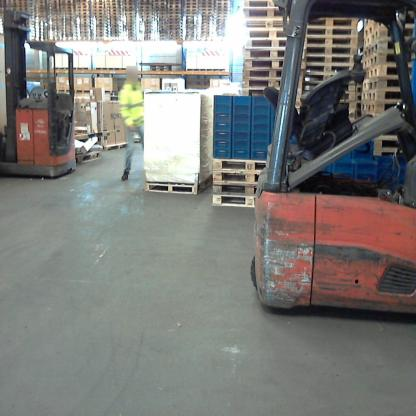forklift: (249, 0, 416, 322), (0, 8, 77, 181)
pallet: (145, 176, 213, 194), (212, 158, 267, 174), (212, 169, 262, 184), (243, 6, 292, 21), (369, 52, 413, 68), (305, 24, 359, 37), (369, 39, 414, 54), (212, 182, 259, 196), (301, 54, 355, 66), (368, 100, 411, 115), (303, 46, 358, 57), (212, 194, 255, 208), (303, 62, 353, 74), (245, 17, 291, 30), (369, 88, 411, 102), (371, 134, 405, 151), (305, 17, 360, 27), (245, 37, 287, 50), (241, 68, 283, 81), (245, 47, 286, 60), (370, 78, 409, 91), (372, 29, 414, 41), (243, 57, 285, 69), (305, 36, 359, 45), (370, 66, 410, 78), (246, 28, 289, 39), (244, 0, 291, 10), (376, 19, 415, 30), (240, 78, 282, 88), (75, 150, 102, 165), (299, 73, 334, 83), (102, 141, 129, 151), (240, 88, 266, 97), (363, 17, 377, 30), (340, 101, 355, 112), (340, 91, 356, 101), (363, 25, 375, 38), (362, 36, 371, 50), (360, 90, 370, 102), (360, 102, 370, 112), (346, 82, 356, 92), (361, 79, 370, 90), (362, 58, 371, 69), (362, 70, 370, 81), (150, 64, 172, 68), (150, 68, 172, 72), (74, 89, 90, 94), (362, 48, 369, 59), (199, 68, 213, 73), (104, 89, 118, 94), (216, 5, 230, 10), (153, 2, 167, 7), (213, 68, 226, 73), (120, 66, 133, 71), (65, 66, 77, 71), (215, 2, 230, 6), (57, 89, 71, 93), (106, 67, 120, 71), (200, 5, 214, 9), (167, 8, 181, 12), (167, 2, 181, 6), (167, 12, 181, 16), (167, 15, 181, 19), (138, 5, 152, 9), (138, 0, 152, 4), (121, 6, 135, 10), (121, 2, 135, 6), (75, 5, 89, 9), (46, 9, 60, 13), (46, 6, 60, 10), (46, 3, 60, 7), (60, 9, 74, 13), (185, 2, 198, 6), (185, 5, 198, 9), (186, 68, 199, 72), (52, 66, 65, 70), (200, 12, 213, 16), (168, 21, 181, 25), (154, 9, 167, 13), (153, 6, 166, 10), (122, 9, 135, 13), (105, 12, 118, 16), (105, 9, 118, 13), (91, 3, 104, 7), (76, 12, 89, 16), (76, 9, 89, 13), (75, 0, 88, 4), (60, 0, 73, 4), (168, 24, 180, 28), (105, 3, 117, 7), (92, 12, 103, 16), (92, 9, 103, 13), (185, 9, 199, 12), (200, 2, 214, 5), (167, 5, 181, 8), (167, 0, 181, 3), (153, 0, 167, 3), (138, 9, 152, 12), (138, 3, 152, 6), (121, 0, 135, 3), (75, 3, 89, 6), (60, 6, 74, 9), (185, 12, 198, 15), (200, 9, 213, 12), (168, 18, 181, 21), (91, 0, 104, 3), (60, 3, 73, 6), (95, 67, 107, 70), (77, 67, 89, 70), (105, 6, 117, 9), (105, 0, 117, 3), (91, 6, 103, 9), (199, 0, 214, 2), (184, 0, 198, 2), (216, 0, 230, 2), (46, 1, 59, 3)
small_load_carrier: (352, 148, 374, 162), (355, 162, 378, 174), (354, 172, 378, 183), (332, 161, 354, 173), (214, 94, 233, 107), (250, 113, 271, 124), (378, 173, 396, 185), (378, 162, 396, 174), (232, 97, 253, 107), (250, 105, 271, 115), (213, 122, 232, 133), (232, 123, 251, 134), (251, 124, 270, 135), (251, 149, 268, 161), (213, 150, 233, 160), (233, 149, 251, 160), (332, 172, 354, 181), (213, 104, 232, 114), (213, 113, 232, 123), (213, 140, 232, 150), (232, 140, 251, 150), (232, 114, 251, 124), (232, 105, 251, 115), (251, 141, 270, 151), (251, 97, 270, 107), (232, 133, 251, 142), (251, 133, 270, 142), (213, 133, 231, 142)
